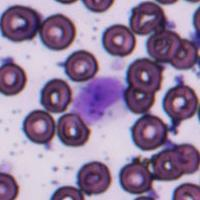M: (72, 75, 125, 125)
